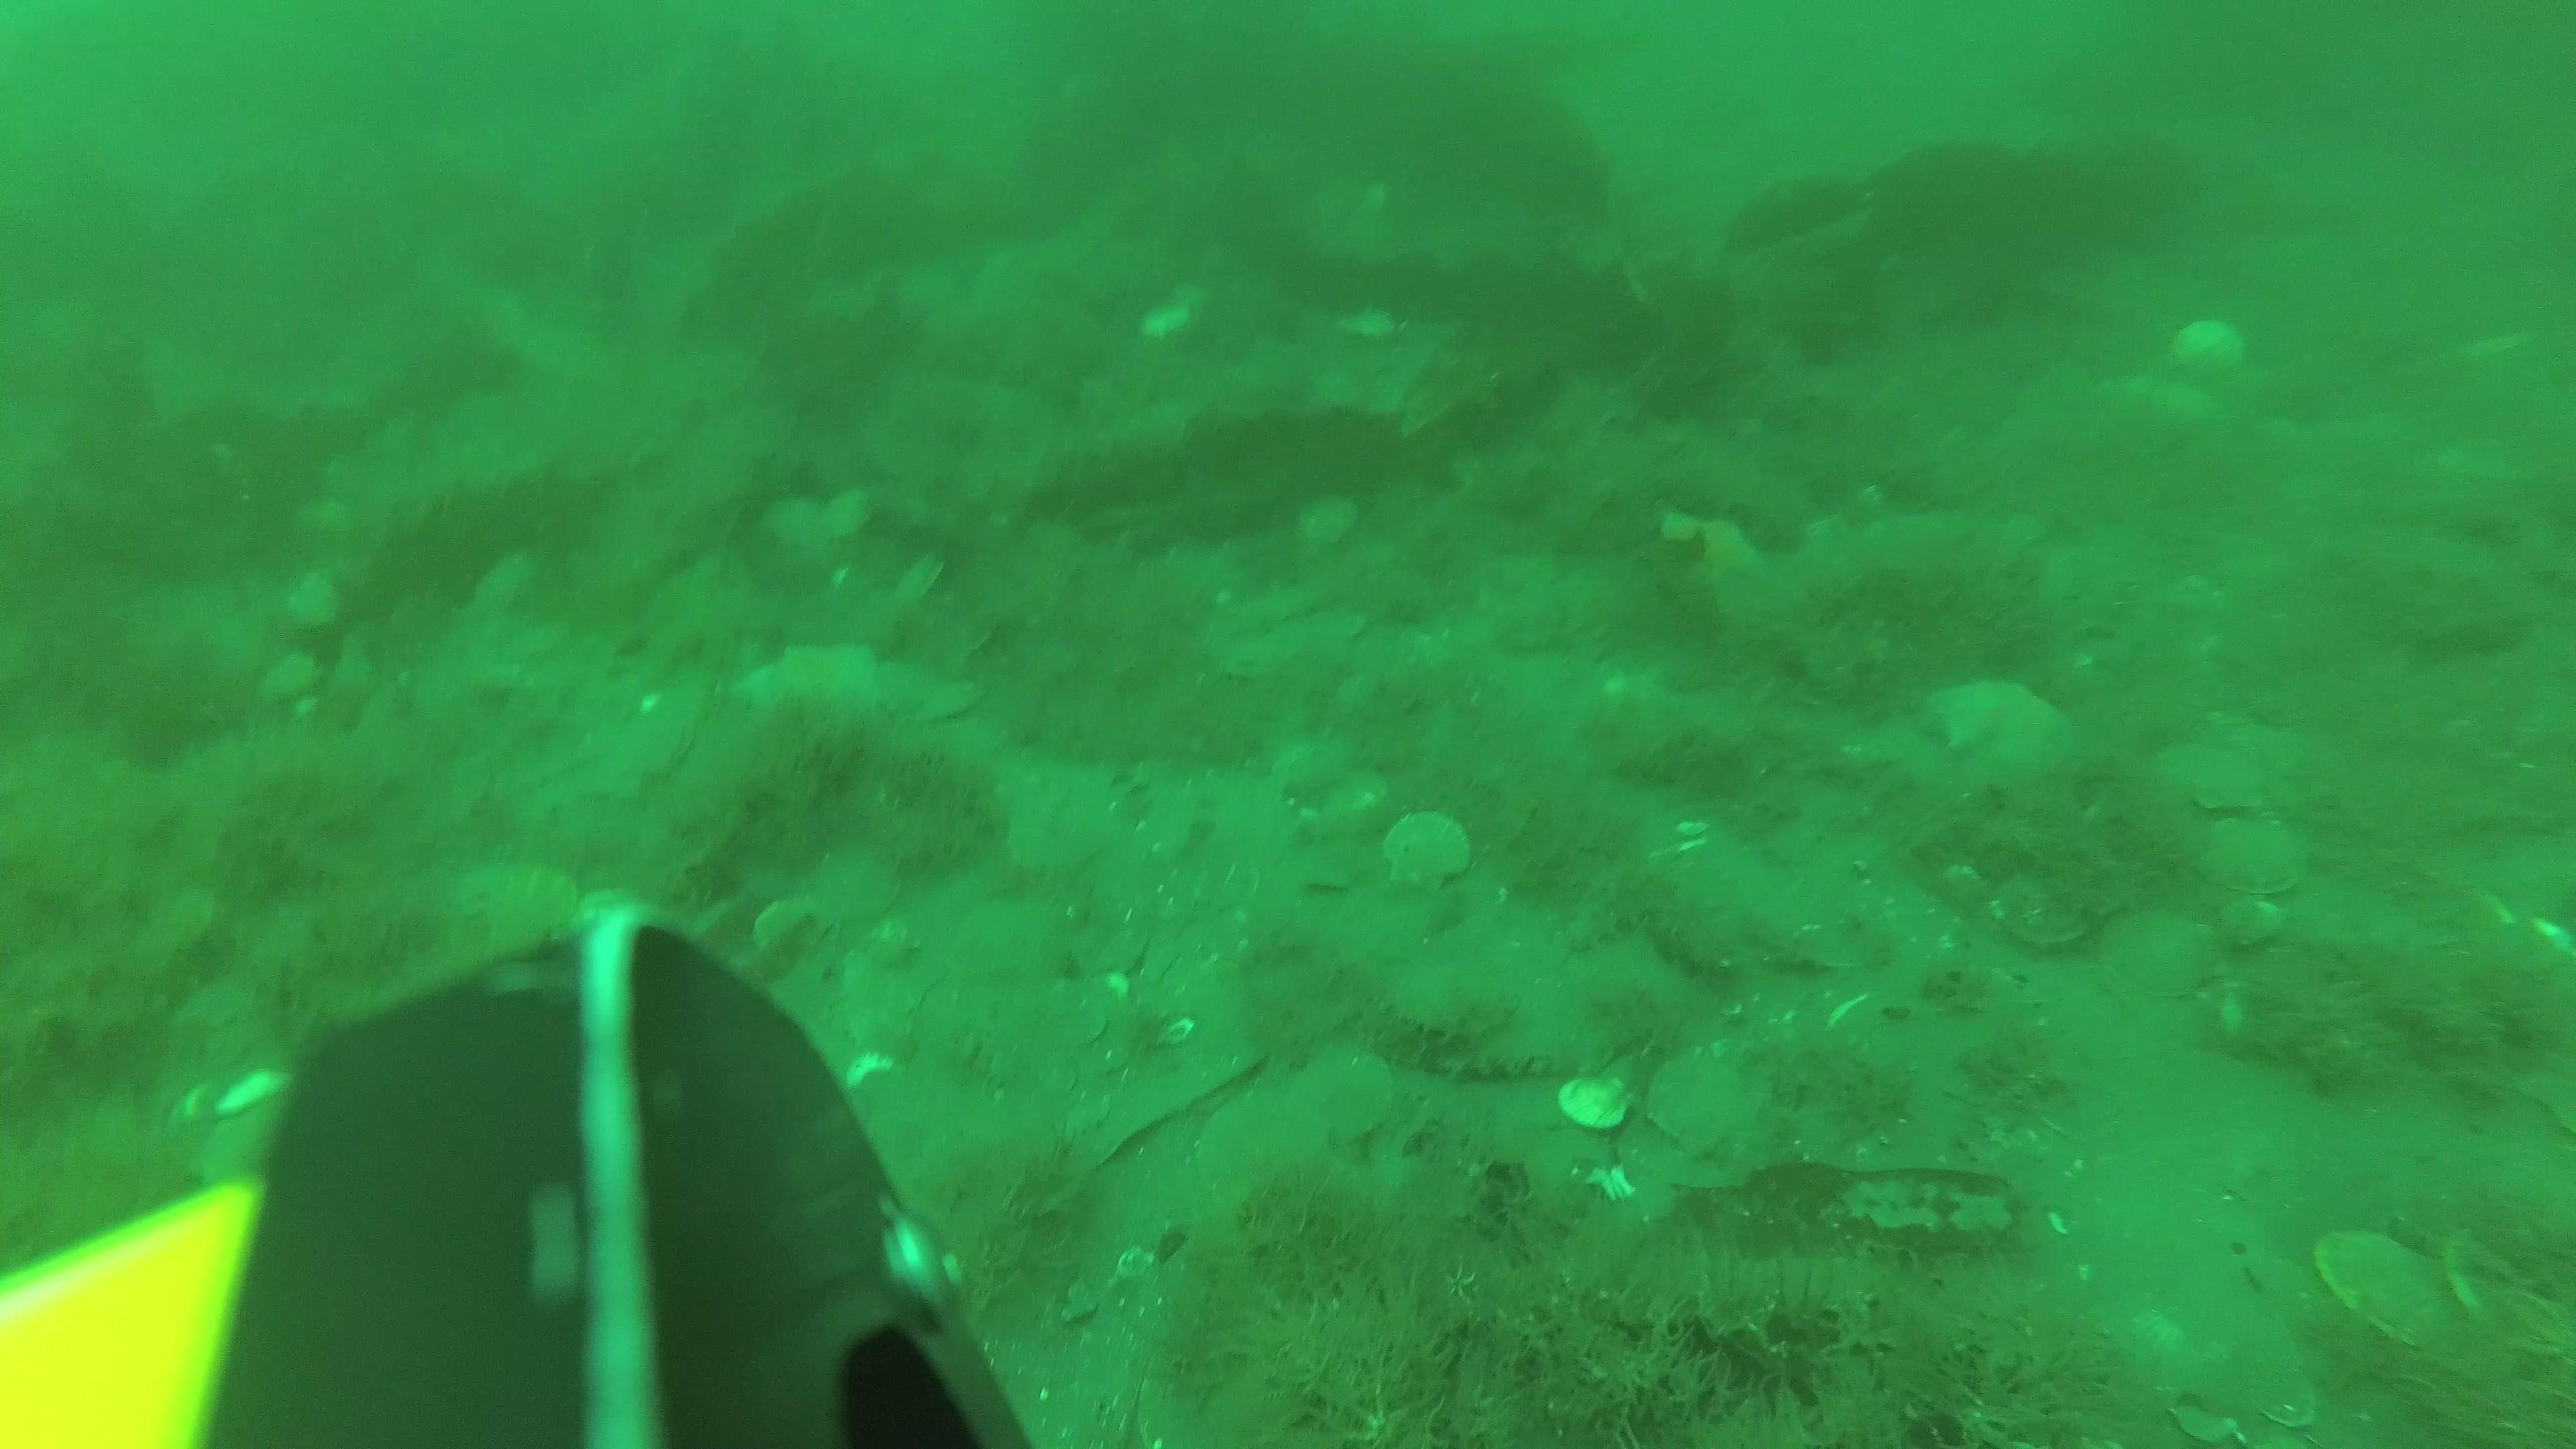holothurian: (1559, 879, 1665, 950)
scallop: (2307, 1219, 2463, 1359), (1196, 1100, 1334, 1207), (1293, 1040, 1410, 1145), (1644, 1053, 1762, 1155), (2102, 908, 2226, 1005), (1615, 1104, 1759, 1185), (2148, 736, 2277, 826), (1994, 860, 2112, 952), (1392, 955, 1516, 1042), (1376, 800, 1479, 902), (2190, 812, 2311, 899), (812, 837, 916, 927), (750, 888, 837, 966), (2171, 310, 2258, 384), (1269, 732, 1361, 794), (1297, 487, 1366, 557), (283, 566, 356, 632), (255, 649, 326, 715), (1559, 1072, 1635, 1132), (913, 672, 978, 738), (757, 495, 824, 552), (892, 548, 947, 609), (819, 485, 872, 538)
starfish: (729, 632, 899, 738), (1930, 669, 2077, 771)
